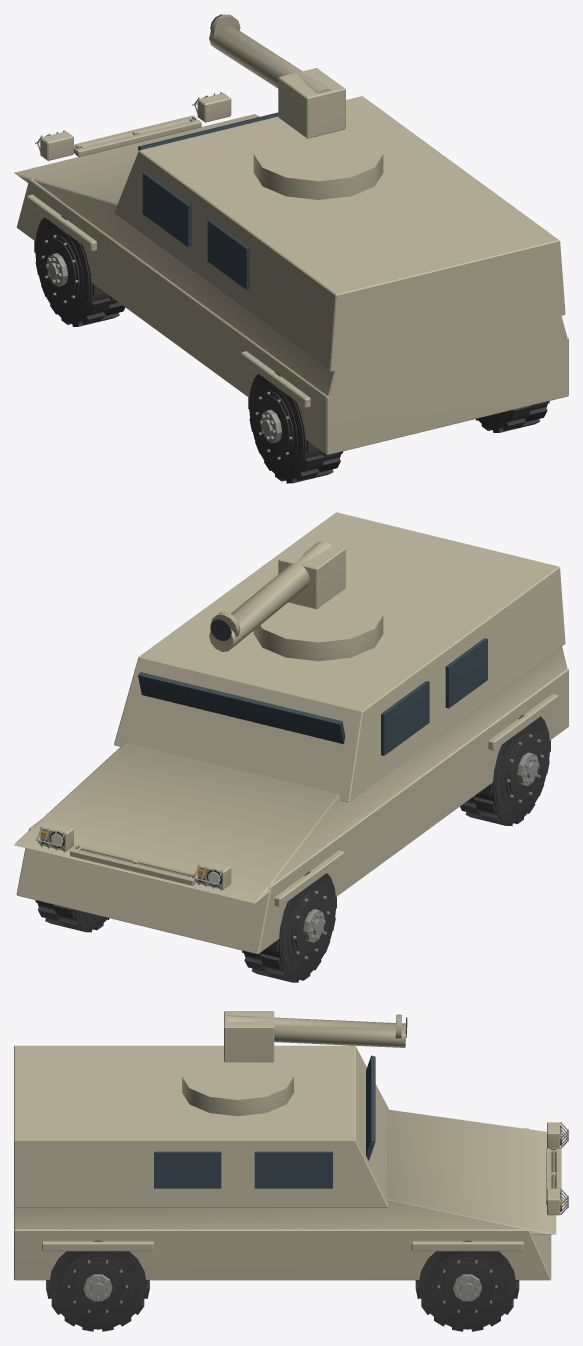
The model's file is usa_td_tow.glb.
3 renders of one model, top to bottom at view 1: azimuth 30°, elevation 25°; view 2: azimuth 150°, elevation 25°; view 3: azimuth 270°, elevation 25°, orthographic. The views are drawn at different scales.
Visible parts, largest first — view 1: body, turret, barrel, wheel_2, wheel_0, wheel_3; view 2: body, turret, barrel, wheel_0, wheel_2, wheel_1; view 3: body, wheel_1, wheel_3, barrel, turret.
Part boxes in pixels (left/top/right/bottom): body: left=14, top=91, right=568, bottom=454; turret: left=253, top=129, right=383, bottom=199; barrel: left=209, top=14, right=345, bottom=138; wheel_2: left=248, top=372, right=343, bottom=483; wheel_0: left=34, top=215, right=125, bottom=326; wheel_3: left=475, top=401, right=549, bottom=432; body: left=14, top=512, right=568, bottom=954; turret: left=253, top=590, right=383, bottom=661; barrel: left=209, top=538, right=345, bottom=651; wheel_0: left=242, top=871, right=336, bottom=982; wheel_2: left=460, top=715, right=550, bottom=825; wheel_1: left=35, top=900, right=109, bottom=932; body: left=14, top=1045, right=568, bottom=1280; wheel_1: left=415, top=1240, right=519, bottom=1331; wheel_3: left=46, top=1240, right=149, bottom=1331; barrel: left=224, top=1011, right=407, bottom=1062; turret: left=182, top=1054, right=293, bottom=1116.
Bounding box in the file's own units: 2.38 × 2.61 × 4.96.
